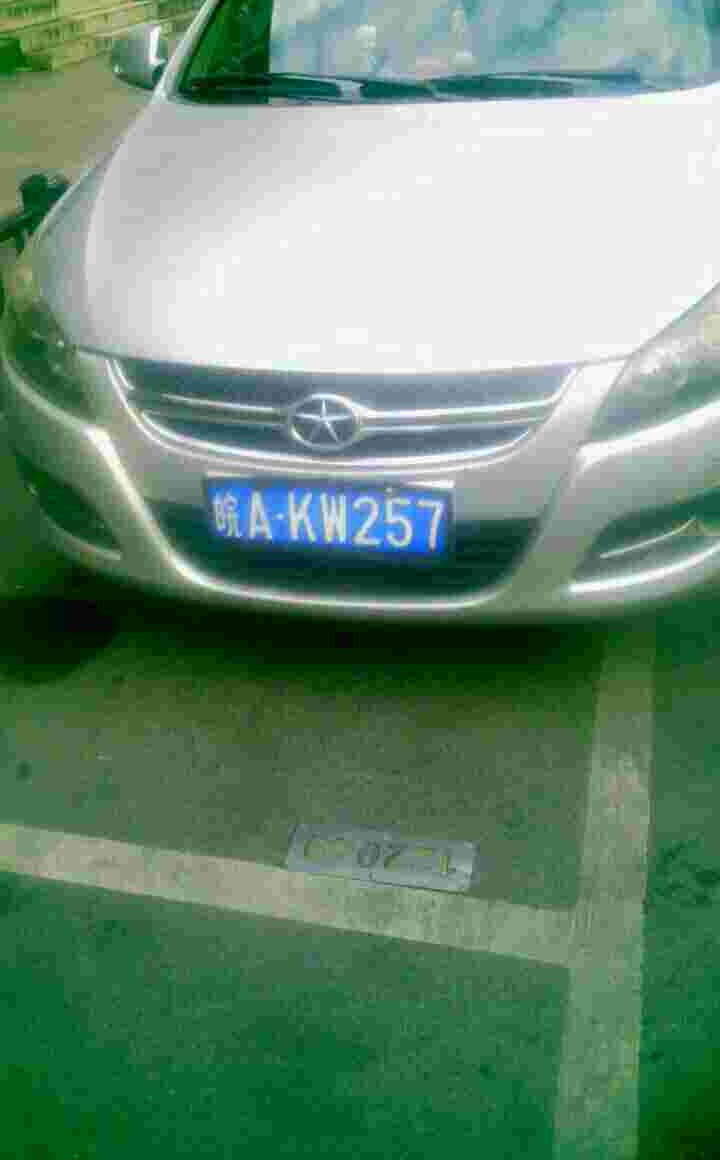plate: (204, 473, 463, 564)
